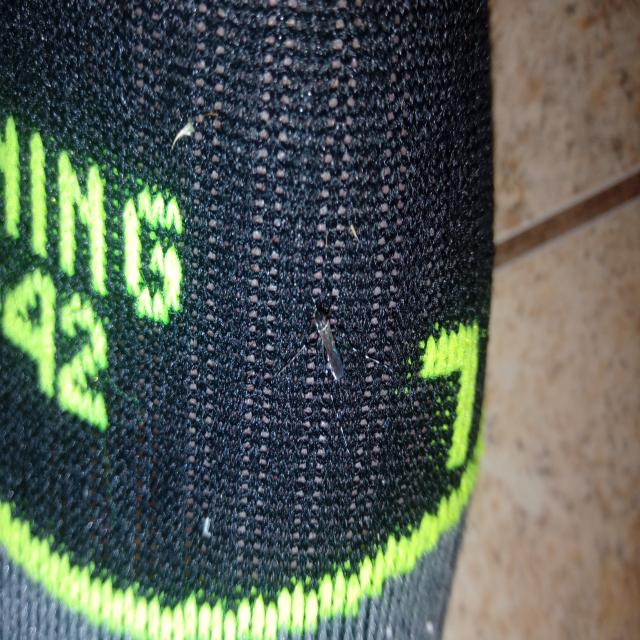albopictus: (275, 152, 412, 386)
